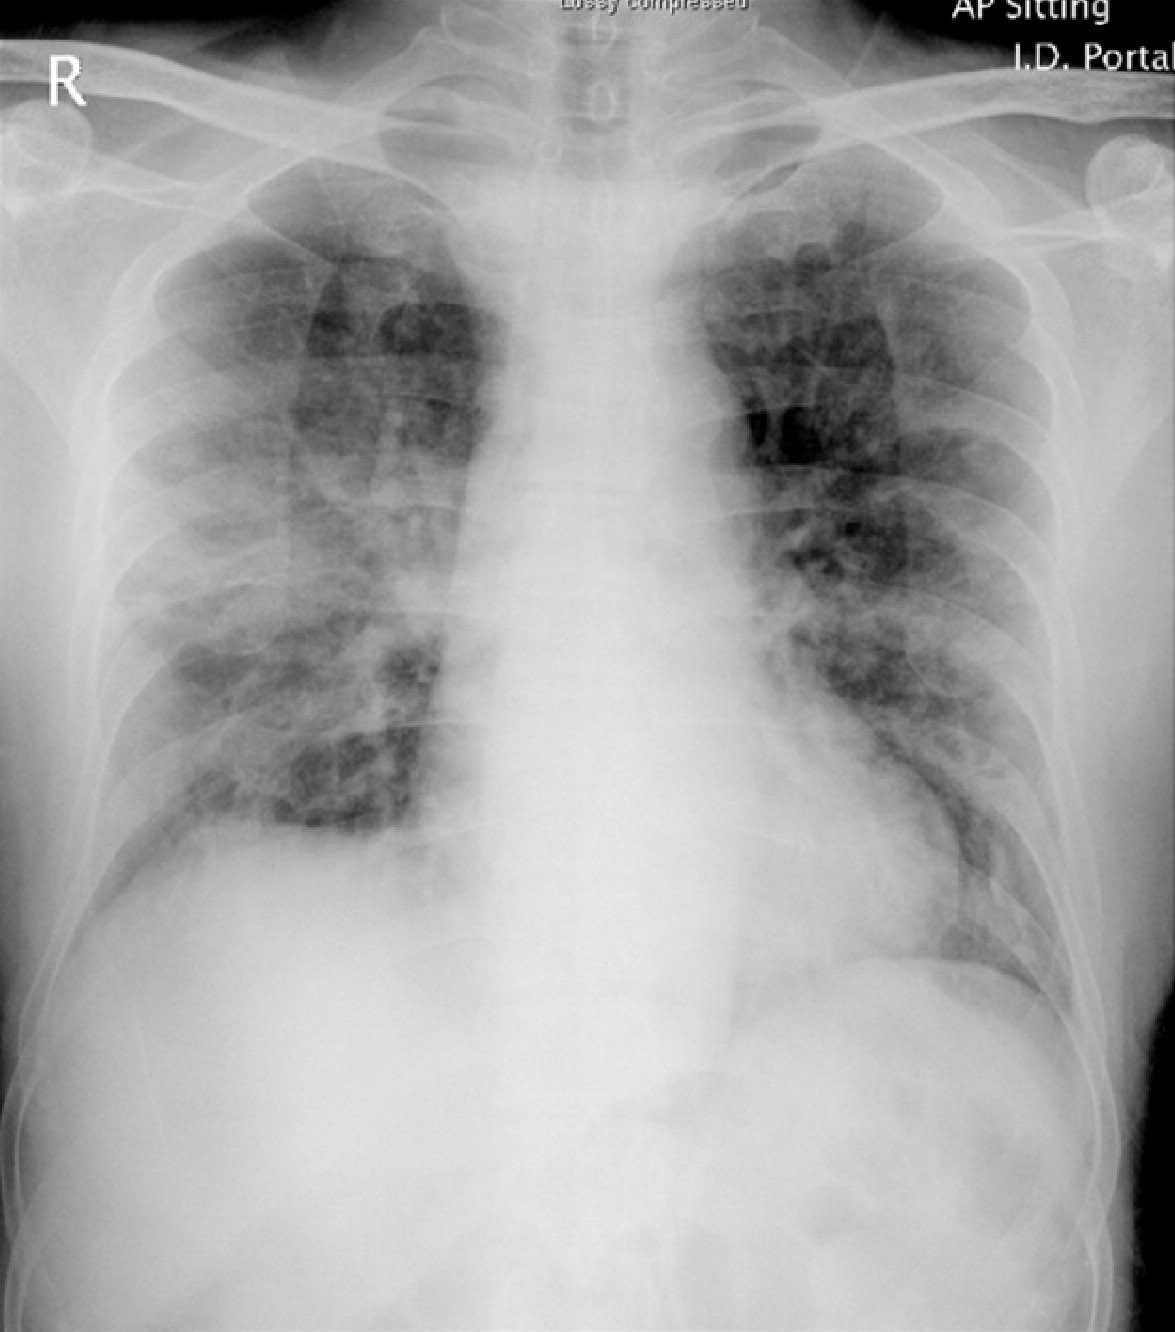Severe: (693, 113, 1062, 1002), (75, 151, 489, 838)
